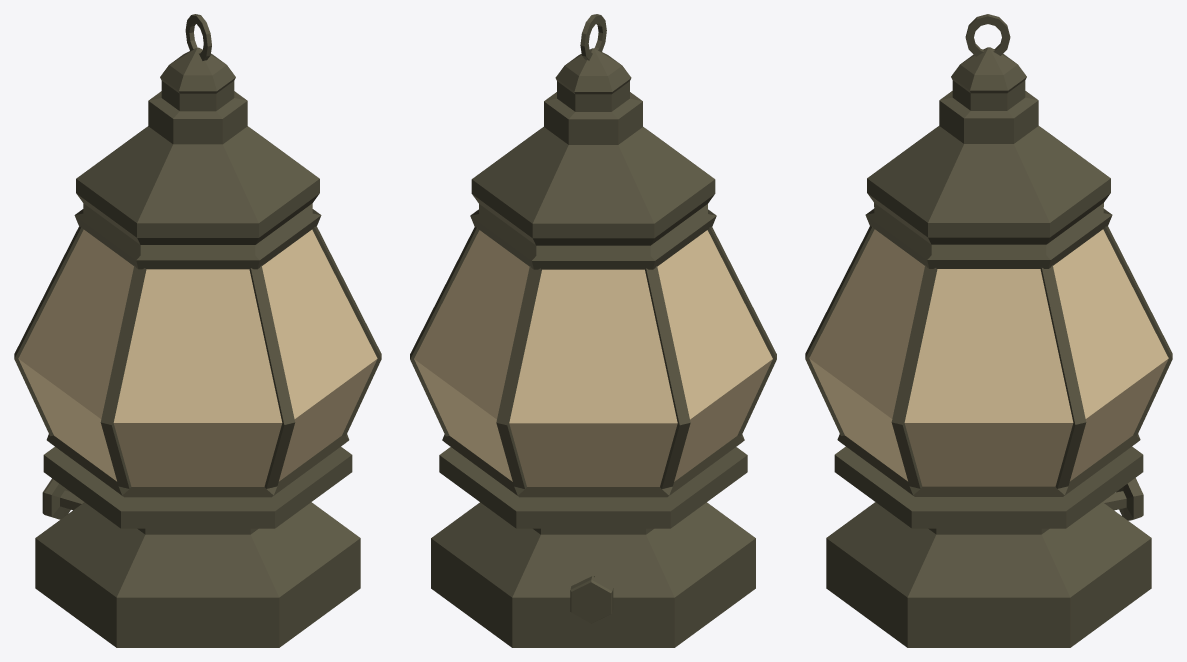
File: GasLamp.fbx
3 views of the same model, side by side, from view 1: azimuth 30°, elevation 25°; view 2: azimuth 150°, elevation 25°; view 3: azimuth 270°, elevation 25° (orthographic).
Parts seen in each view (by area): view 1: GasLamp, GasLamp.001; view 2: GasLamp, GasLamp.001; view 3: GasLamp, GasLamp.001.
Part boxes in pixels (x1,y1,x2,y2): GasLamp: (14,14,381,647); GasLamp.001: (18,229,377,486); GasLamp: (410,14,776,647); GasLamp.001: (414,230,772,486); GasLamp: (805,14,1172,647); GasLamp.001: (809,229,1168,486).
Bounding box in the file's own units: 0.8437 × 1.64 × 0.9552.
